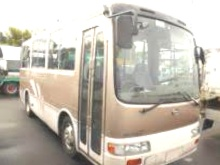bus: (18, 3, 206, 165), (0, 45, 22, 96)
